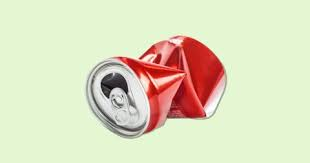metal: (84, 31, 231, 143)
